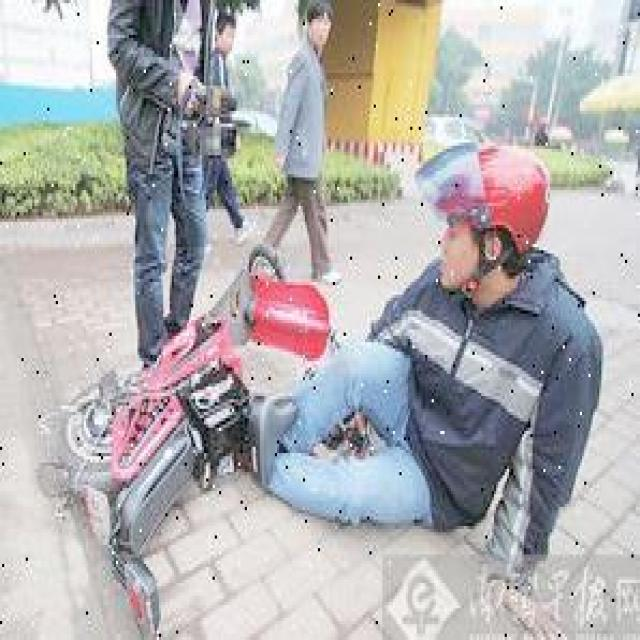fall: (254, 152, 590, 555)
